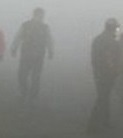person: (10, 7, 53, 94), (89, 17, 122, 122)
